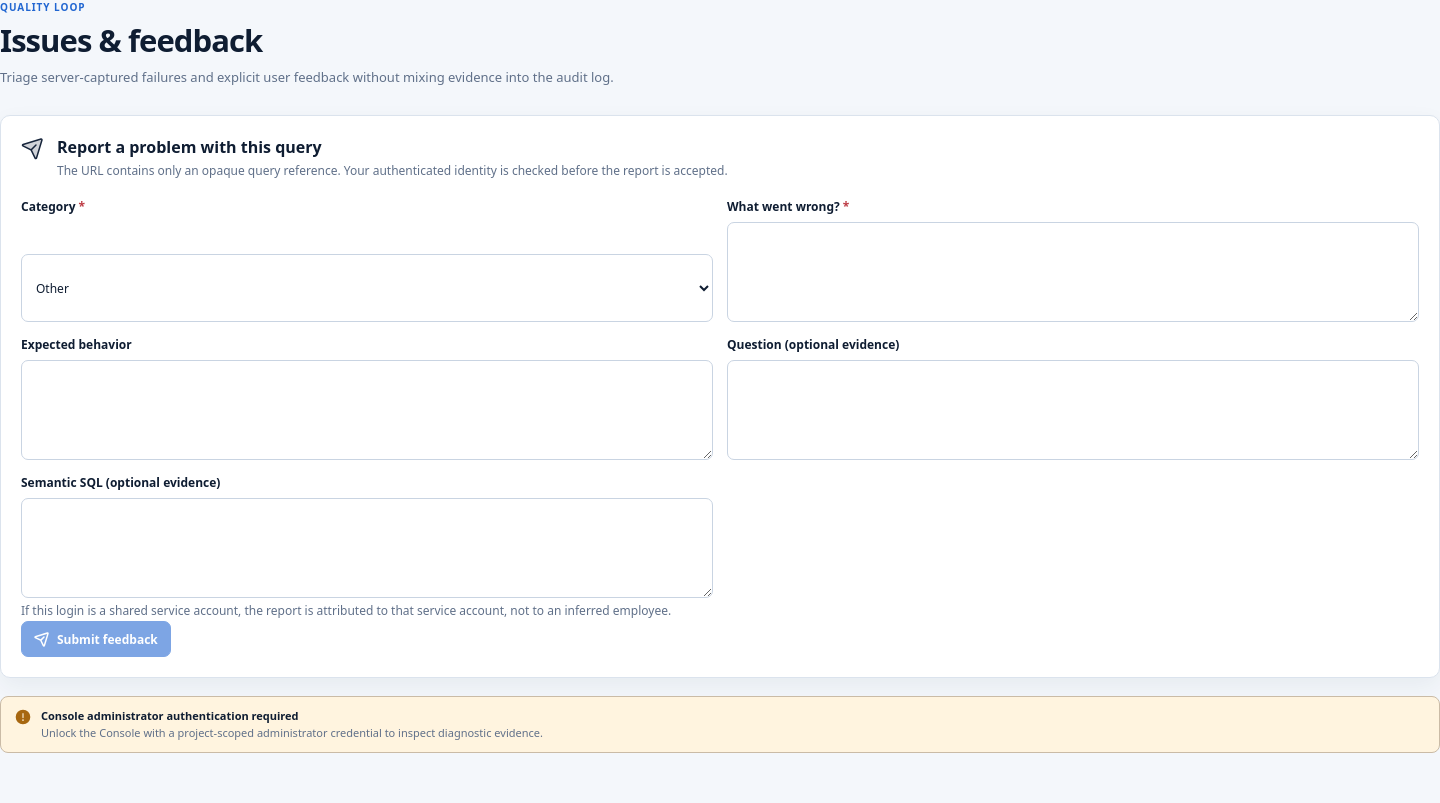
Test: DiagnosticsWorkbench › reports a feedback failure and retries with the same idempotency key
In the text box below "What went wrong?": (1073, 272) [727,222,1419,322], type "The result is wrong"
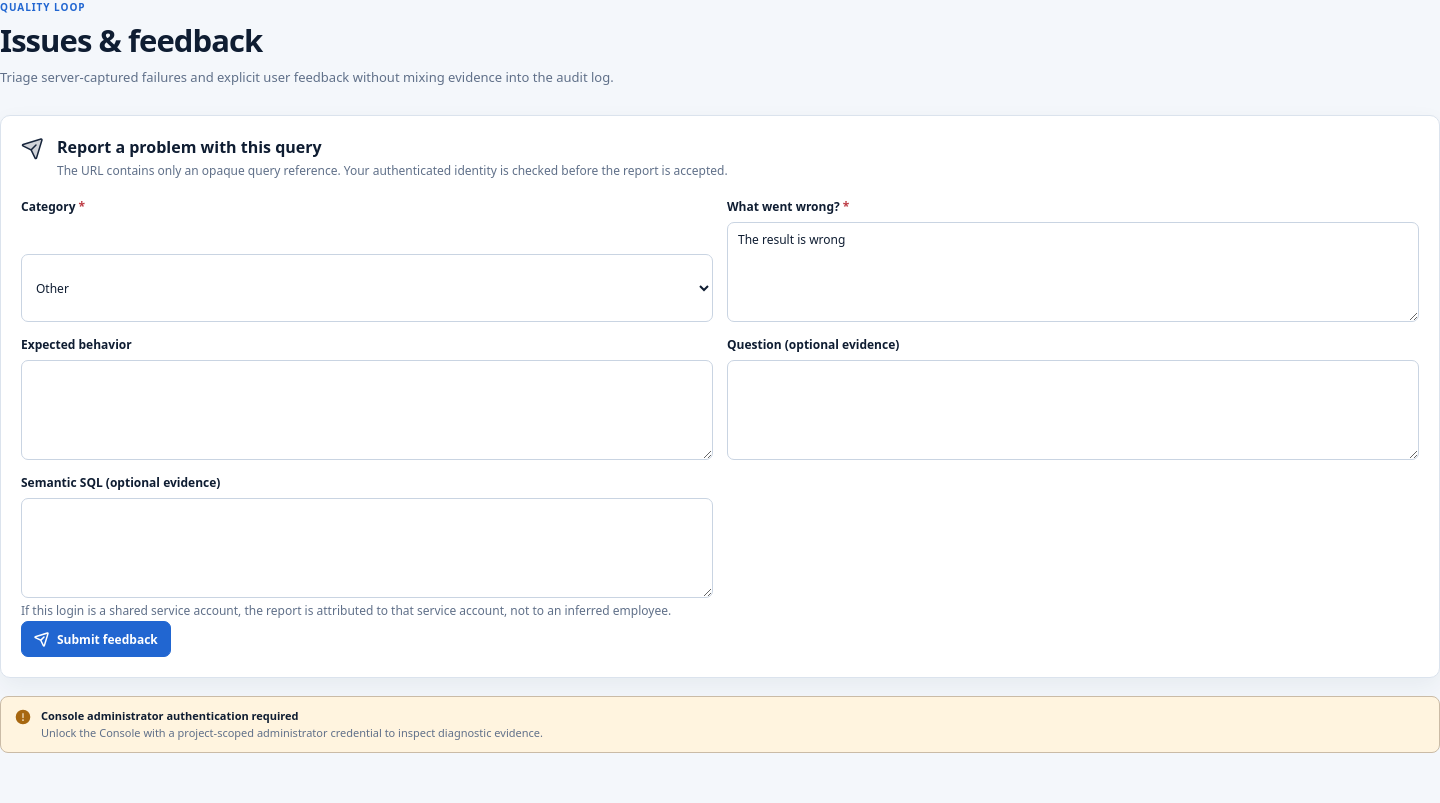
Click the button "Submit feedback": (96, 639) [21,621,171,657]
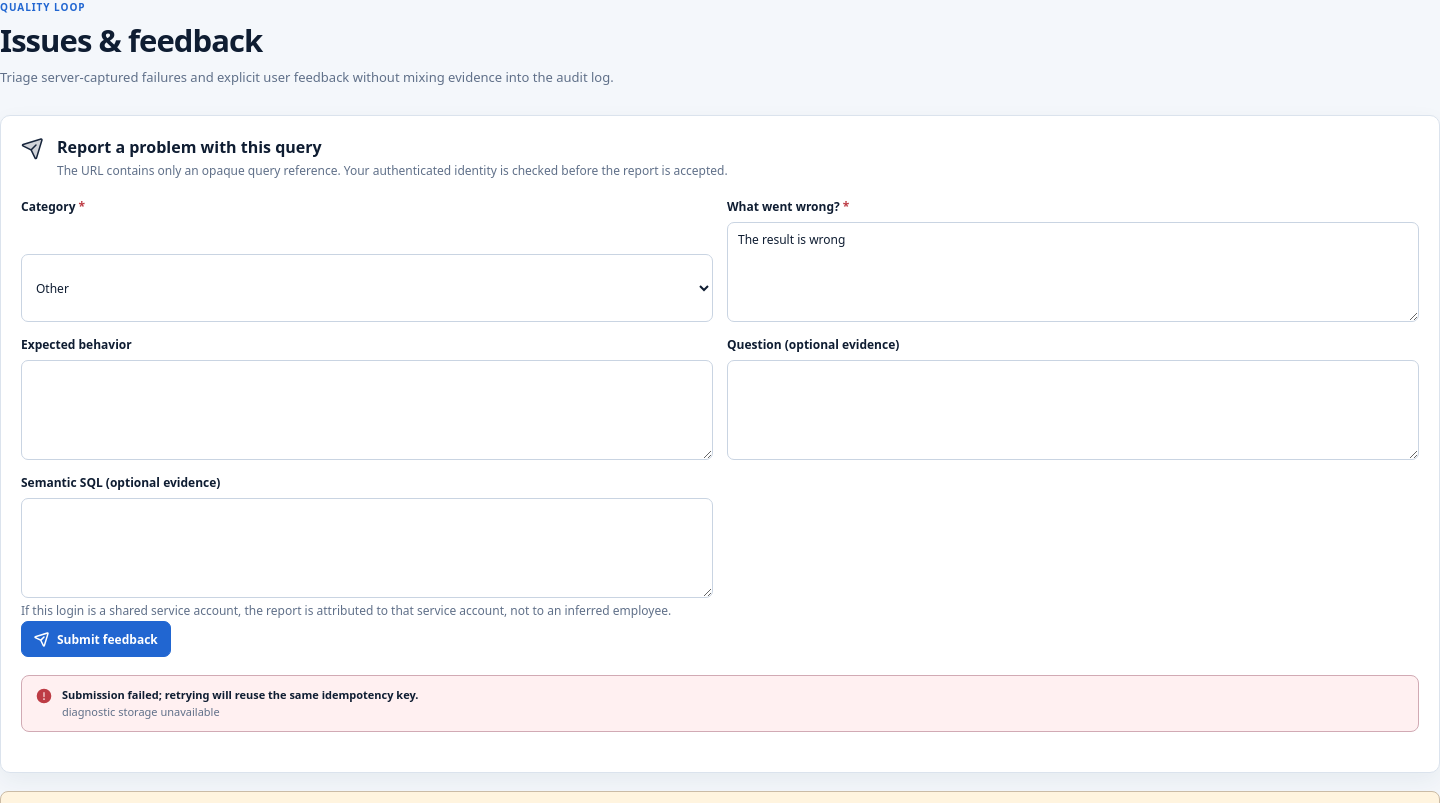
Now the text "diagnostic storage unavailable" is shown, box [62,704,220,719]
Click the button "Submit feedback": (96, 639) [21,621,171,657]
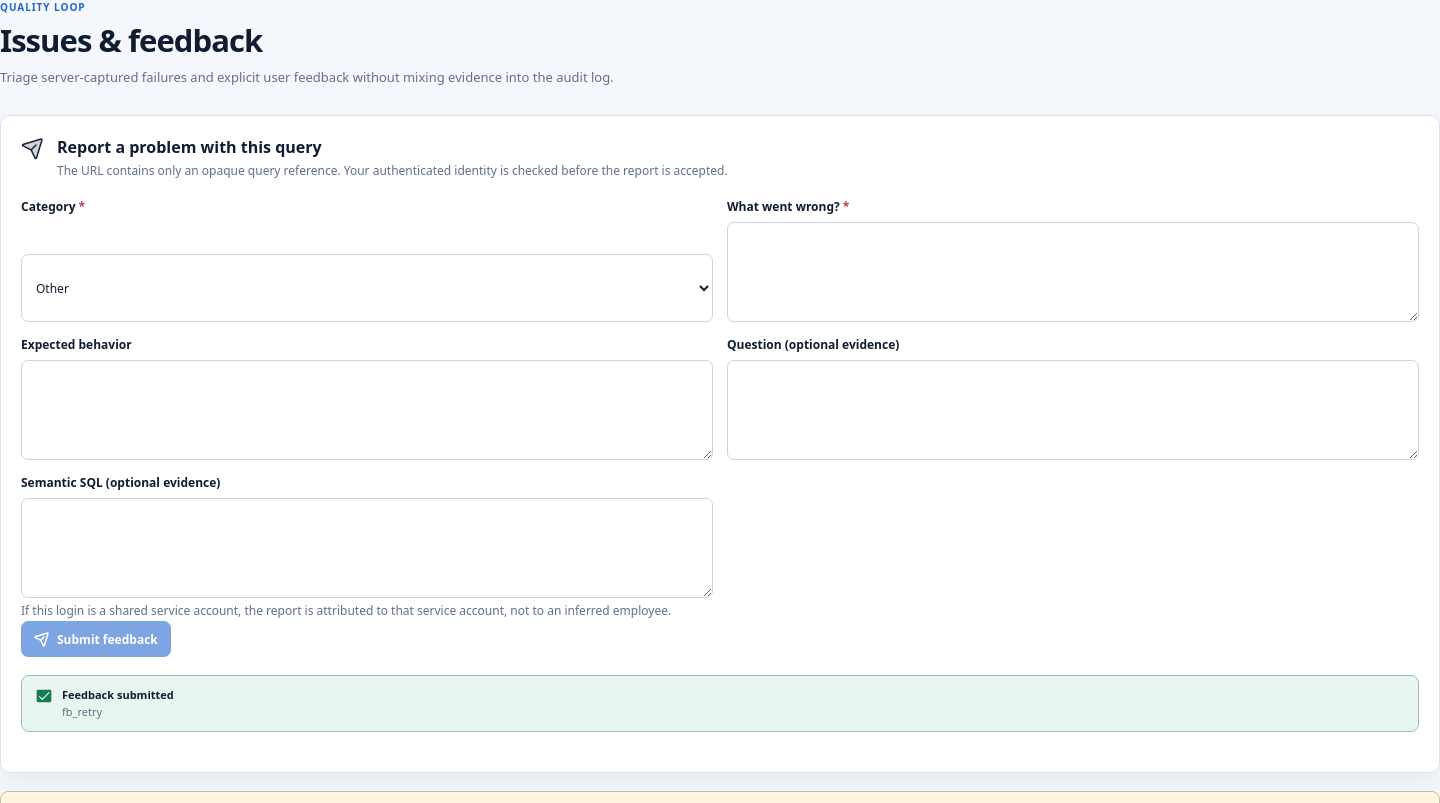
Now the text "fb_retry" is shown, box [62,704,102,719]
